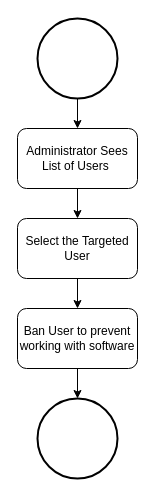
Some shapes in this 155 by 496 pixel diagram are drawn without their labels. The shapes that lost their labels are listed below. From the top down, each one's centre as x and y in pixels, then its label:
At pixel 77 58: "Start".
At pixel 77 438: "End".
